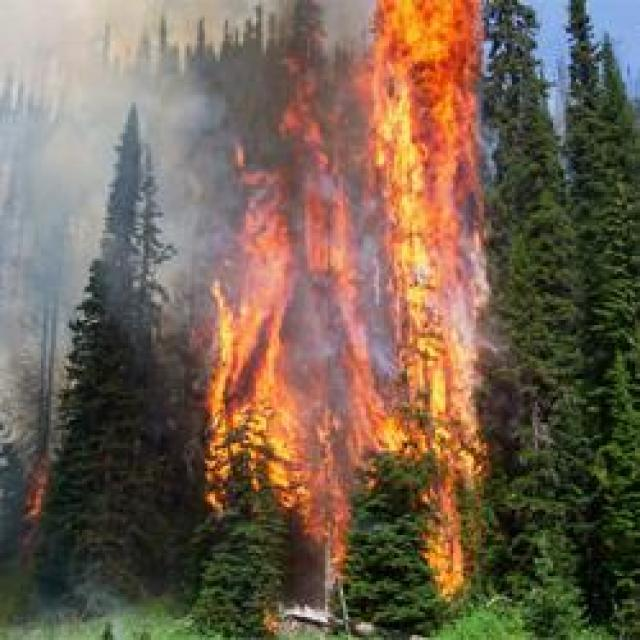Fire: (360, 1, 500, 588), (212, 175, 357, 559)
Smoke: (0, 0, 228, 154), (0, 162, 113, 428)
